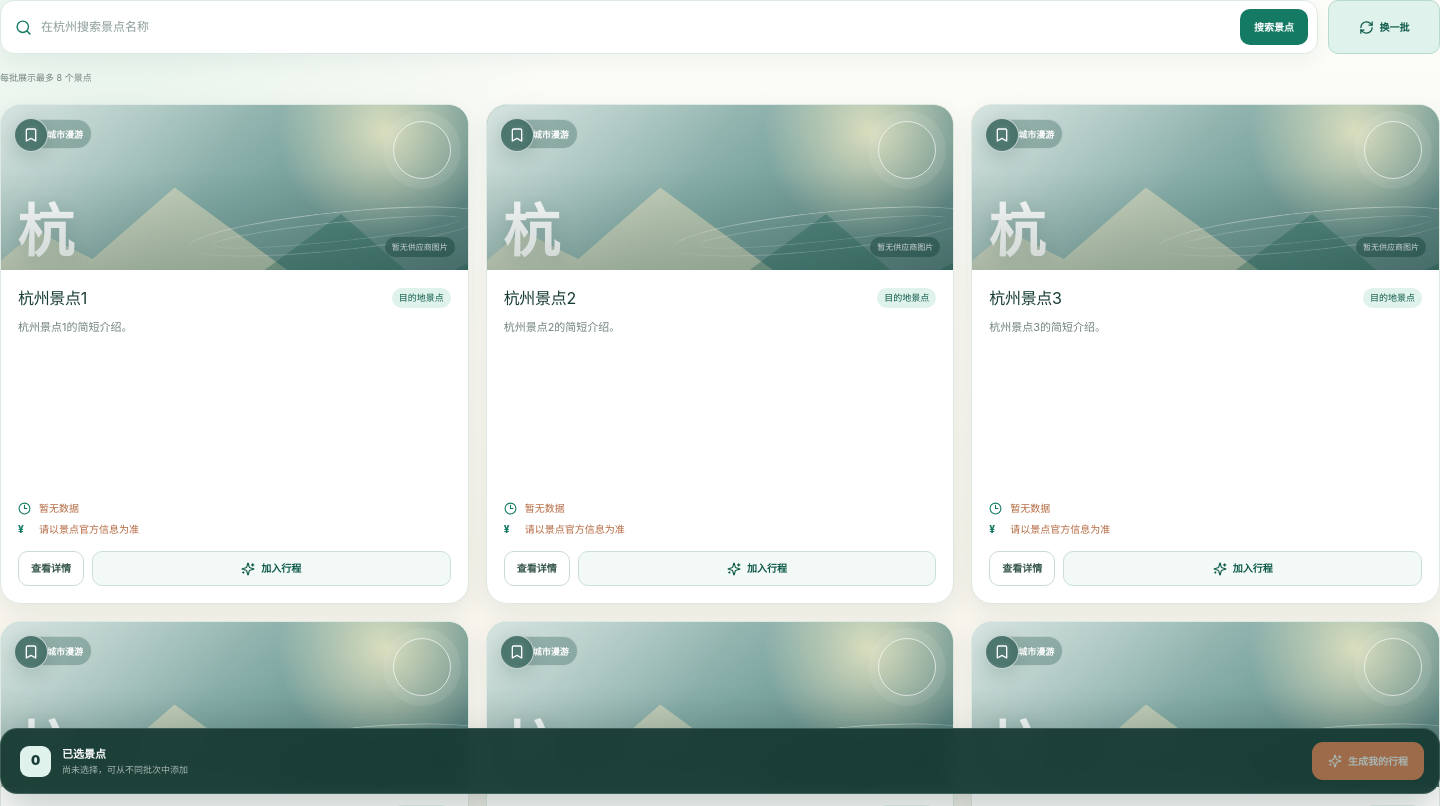
Test: ScenicBrowser › shows eight spots, keeps selection while changing batch, and opens an accessible detail dialog
The image size is (1440, 806).
Expected: the heading "杭州景点1" is shown, [18,286,87,310]
Expected: the text "杭州景点9" is not shown
Click the button "加入行程" below "杭州景点1的简短介绍。" at coordinates (271, 568), box [92,551,451,586]
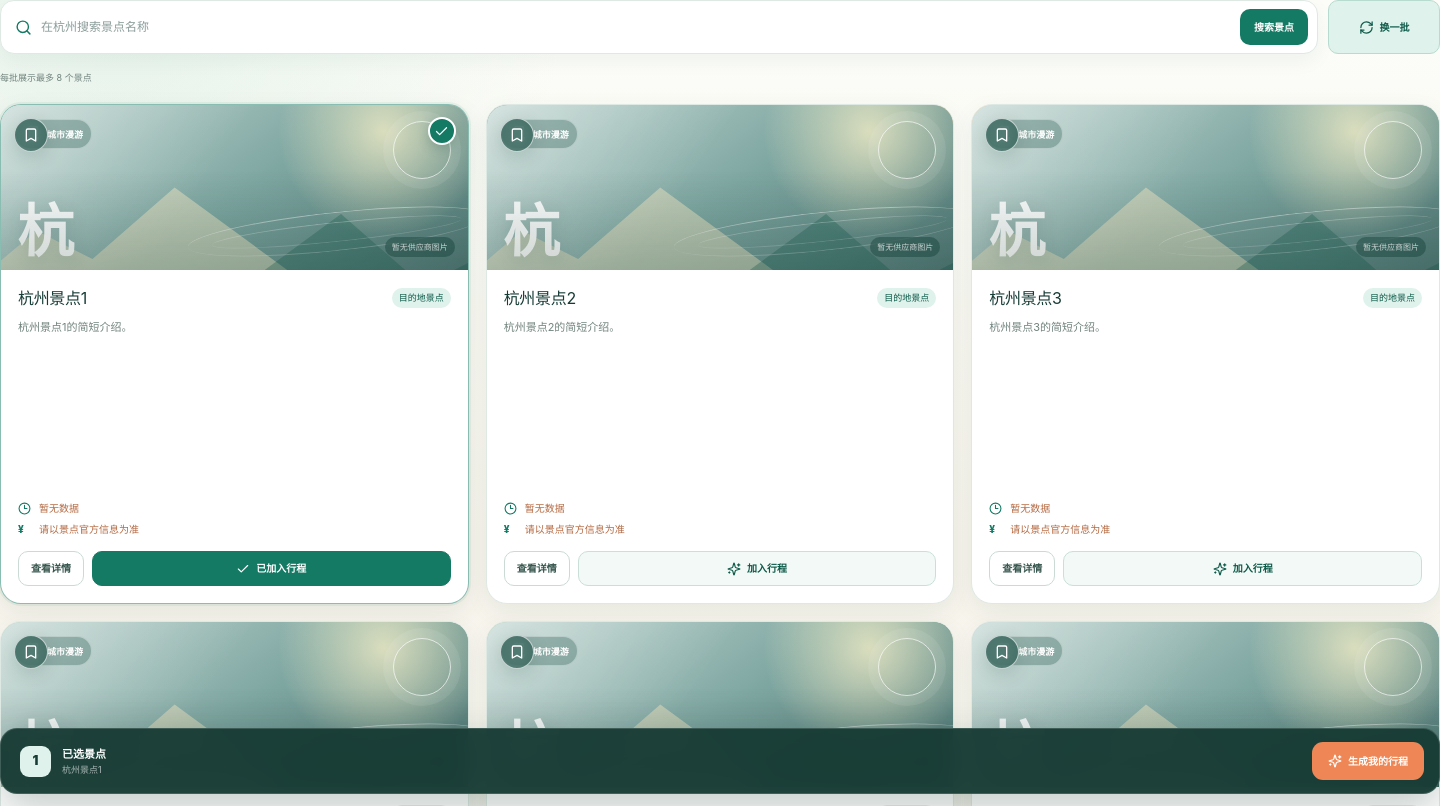
Click the button "换一批" at coordinates (1384, 27), box [1328,0,1439,54]
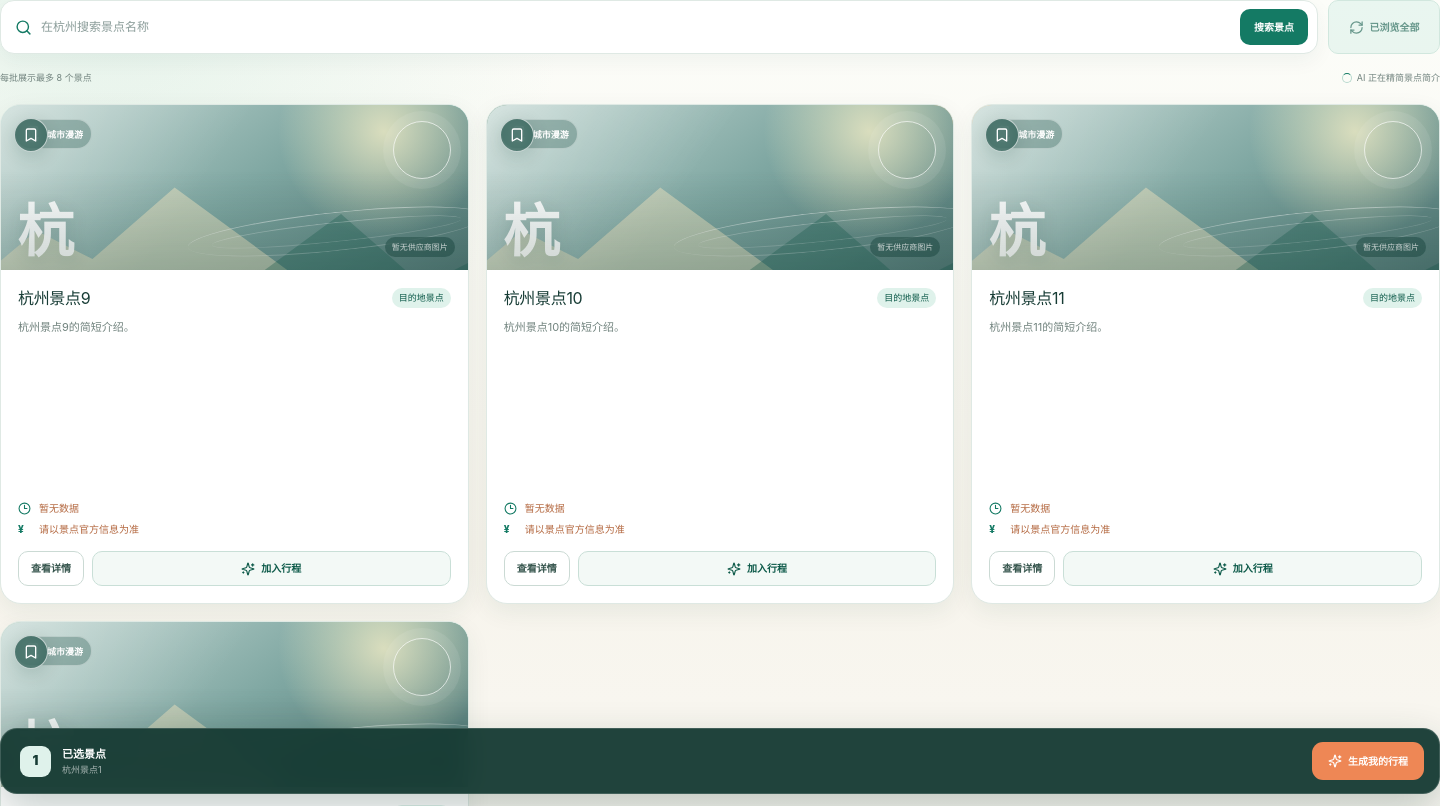
Result: the text "杭州景点1" is shown at [62,762,106,776]
Result: the heading "杭州景点9" is shown at [18,286,90,310]
Click the button "查看详情" below "杭州景点9的简短介绍。" at coordinates (51, 568), box [18,551,84,586]
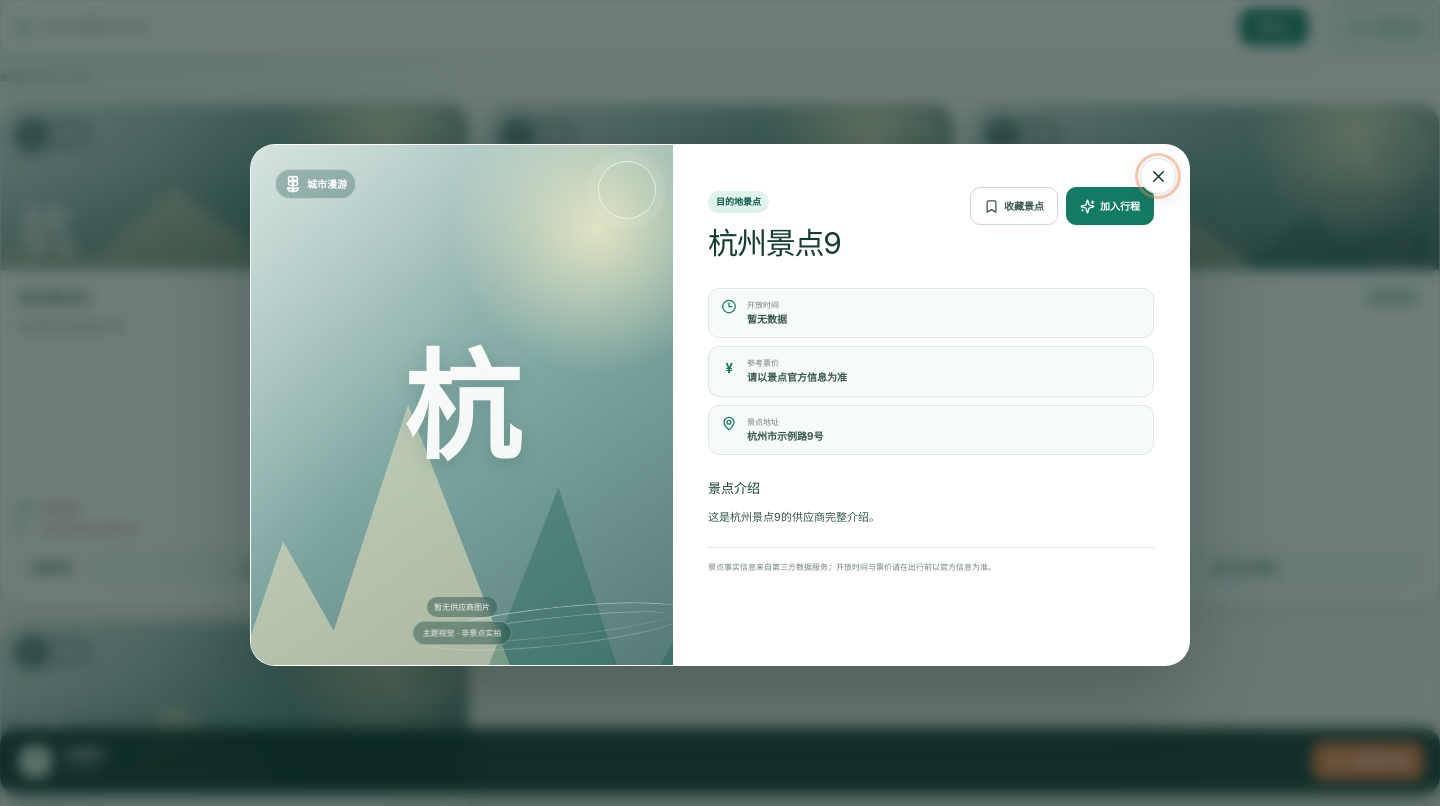
Result: the text "这是杭州景点9的供应商完整介绍。" is shown at [708,510,880,524]
Press Escape
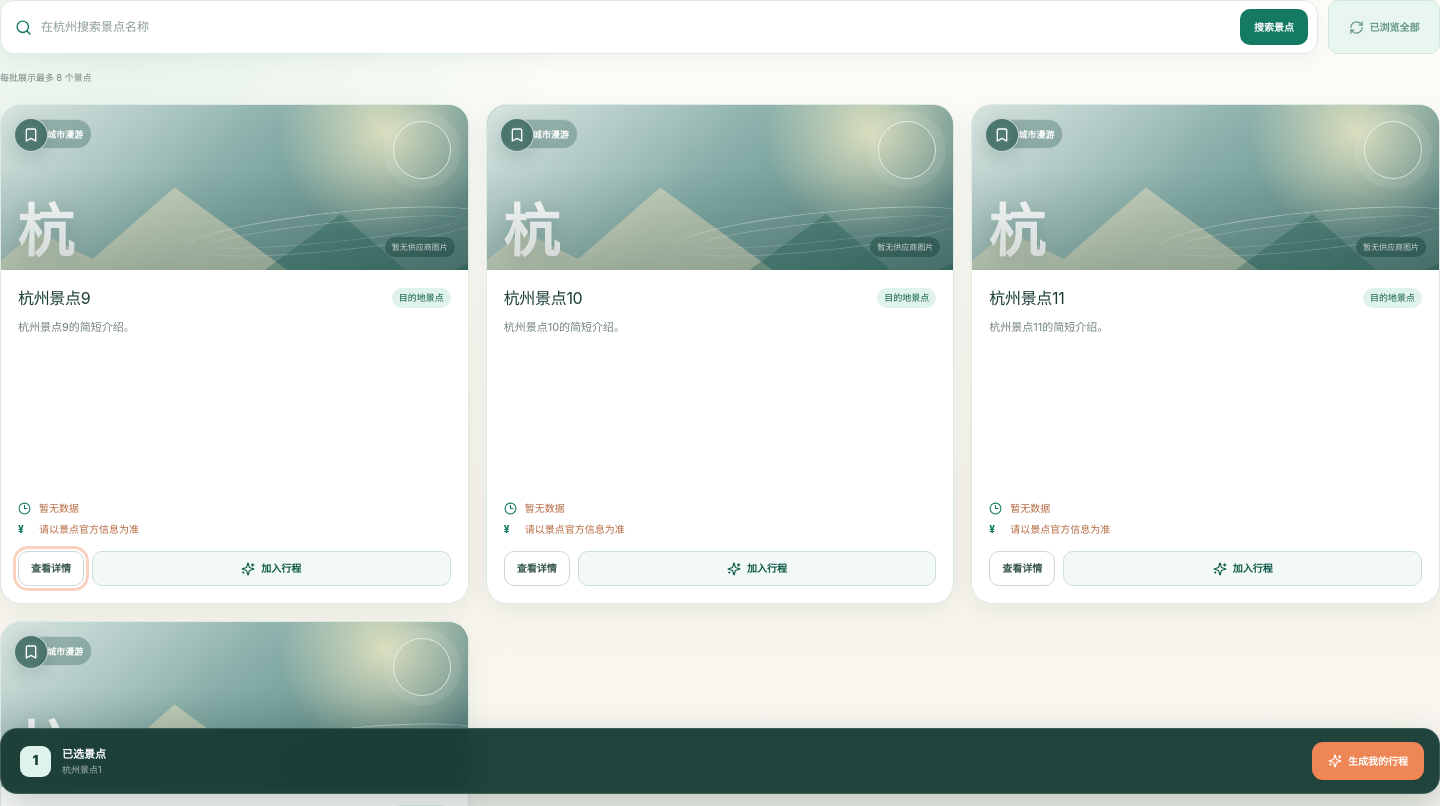
Result: the dialog is gone
